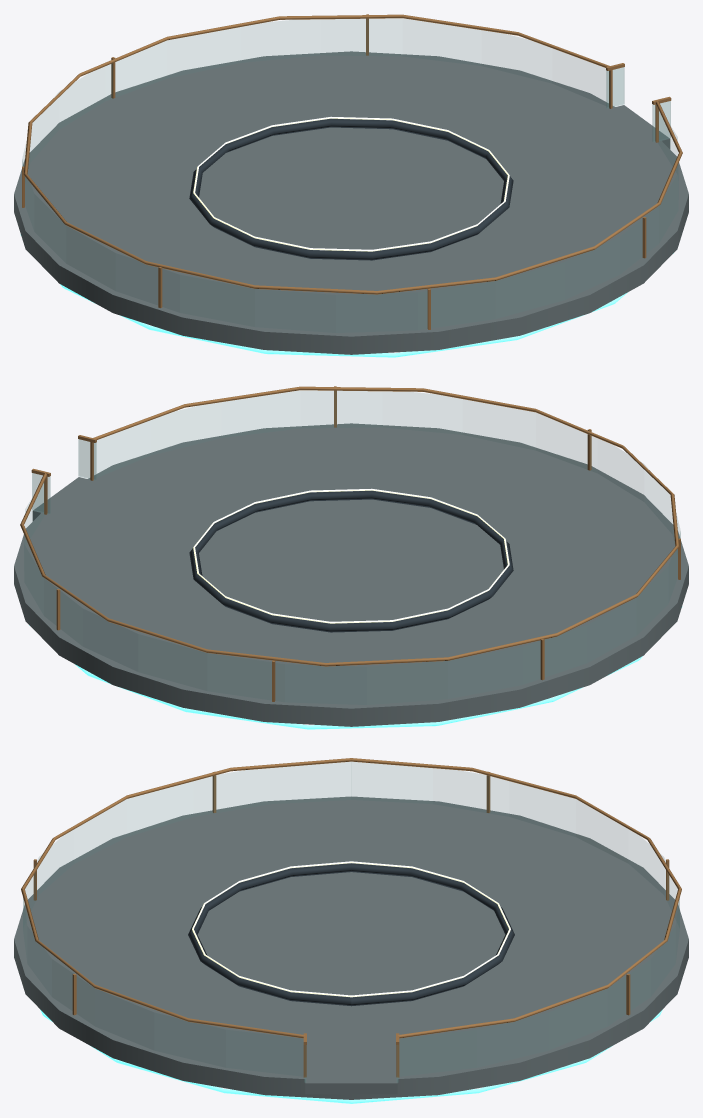
Rendered from sky-deck.lod2.glb.
The picture shows the model from 3 angles, top to bottom: view 1: azimuth 30°, elevation 25°; view 2: azimuth 150°, elevation 25°; view 3: azimuth 270°, elevation 25°; orthographic projection.
Visible parts, largest first — view 1: structure; view 2: structure; view 3: structure.
Part boxes in pixels (left/top/right/bottom): structure: left=14, top=14, right=688, bottom=357; structure: left=14, top=386, right=688, bottom=729; structure: left=14, top=758, right=688, bottom=1103.
Bounding box in the file's own units: 16.9 × 2.85 × 16.8.
